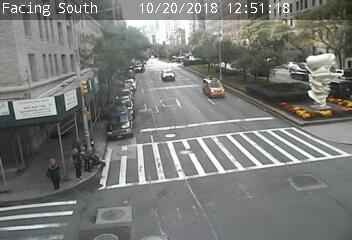car: (202, 78, 226, 98), (161, 69, 176, 80)
